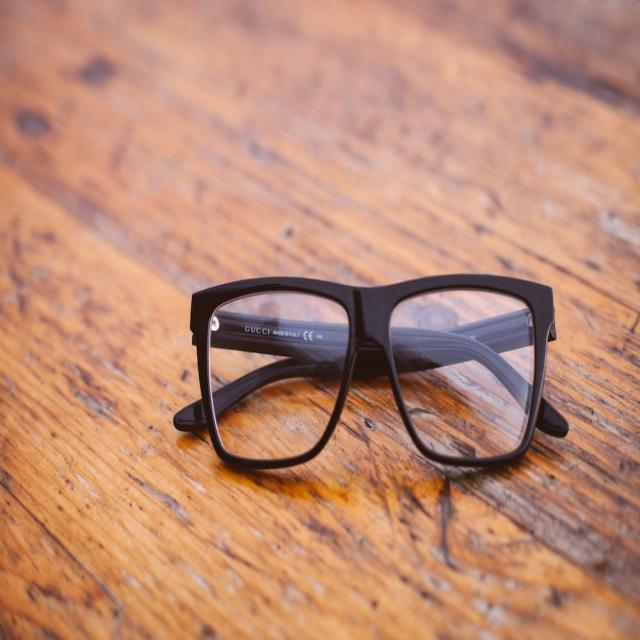glasses: (152, 227, 602, 548)
